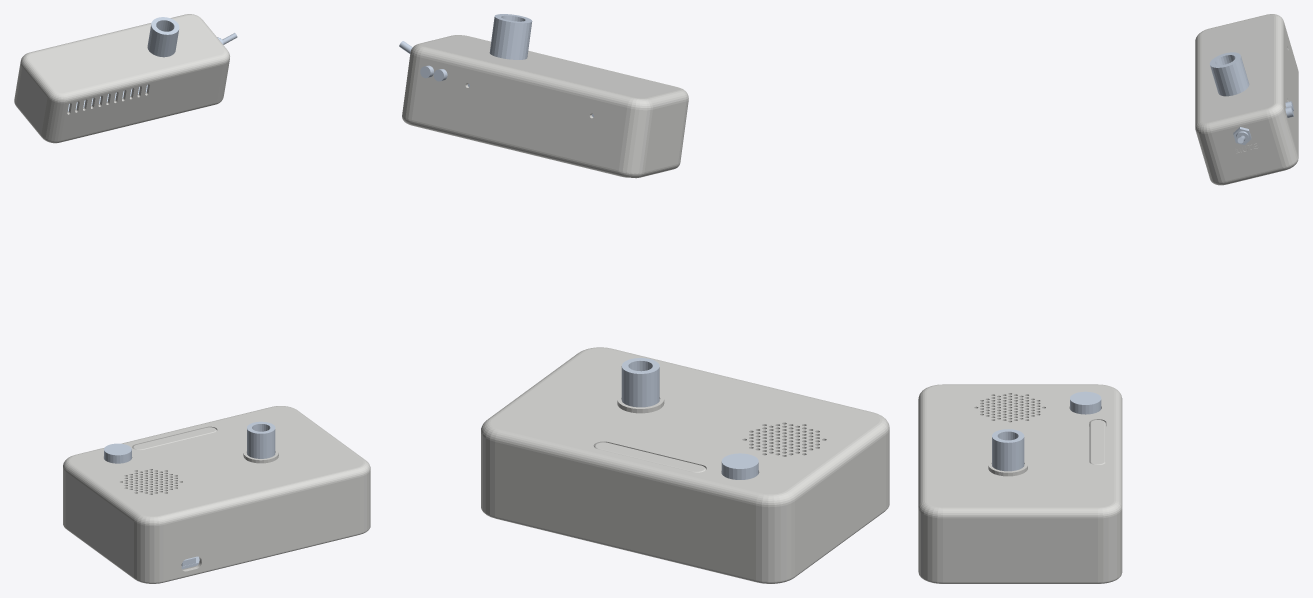
Rendered from system.glb.
3 renders of one model, left to right at view 1: azimuth 30°, elevation 25°; view 2: azimuth 150°, elevation 25°; view 3: azimuth 270°, elevation 25°, orthographic. The views are drawn at different scales.
Parts seen in each view (by area): view 1: base-top, head-upper, head-lower, base-bottom, coupling-head, coupling-base, diffuser, talk; view 2: base-top, head-upper, head-lower, base-bottom, coupling-base, coupling-head, diffuser, talk; view 3: base-top, head-upper, head-lower, coupling-head, coupling-base, base-bottom, diffuser, talk.
Boxes of the visible parts, x1=… form: base-top: x1=63, y1=406, x2=370, y2=580; head-upper: x1=17, y1=14, x2=229, y2=125; head-lower: x1=14, y1=83, x2=225, y2=143; base-bottom: x1=63, y1=523, x2=370, y2=583; coupling-head: x1=147, y1=17, x2=179, y2=57; coupling-base: x1=247, y1=421, x2=275, y2=458; diffuser: x1=132, y1=427, x2=216, y2=449; talk: x1=104, y1=443, x2=131, y2=463; base-top: x1=481, y1=347, x2=889, y2=579; head-upper: x1=405, y1=35, x2=688, y2=147; head-lower: x1=402, y1=90, x2=683, y2=178; base-bottom: x1=481, y1=503, x2=889, y2=583; coupling-base: x1=621, y1=358, x2=659, y2=407; coupling-head: x1=489, y1=14, x2=532, y2=59; diffuser: x1=594, y1=442, x2=706, y2=472; talk: x1=721, y1=453, x2=758, y2=479; base-top: x1=918, y1=384, x2=1122, y2=580; head-upper: x1=1195, y1=14, x2=1292, y2=162; head-lower: x1=1204, y1=52, x2=1298, y2=185; coupling-head: x1=1209, y1=52, x2=1249, y2=96; coupling-base: x1=992, y1=429, x2=1024, y2=471; base-bottom: x1=918, y1=570, x2=1122, y2=583; diffuser: x1=1089, y1=420, x2=1106, y2=464; talk: x1=1070, y1=391, x2=1101, y2=414.
Size of the model in its own units: 0.1502 by 0.2647 by 0.1864.
